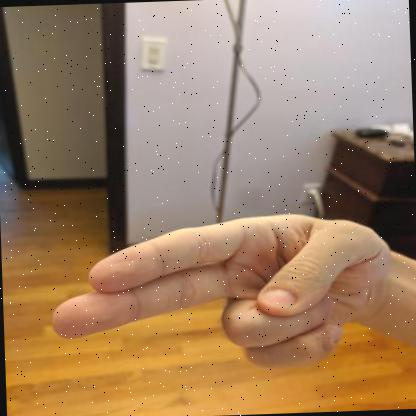H: (52, 214, 393, 368)
